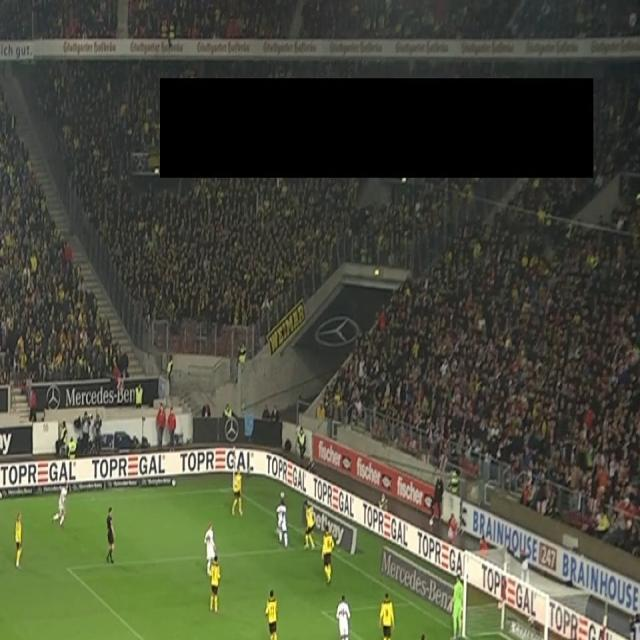ball: (275, 525, 282, 538)
